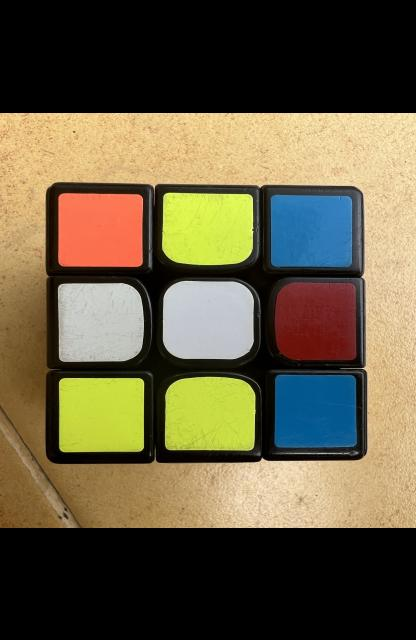Blue: (274, 374, 357, 447), (270, 194, 352, 267)
Orange: (58, 192, 143, 266)
Red: (274, 281, 357, 359)
White: (163, 280, 254, 359), (58, 282, 144, 361)
Yellow: (164, 375, 256, 450), (162, 191, 253, 265), (59, 377, 144, 451)
